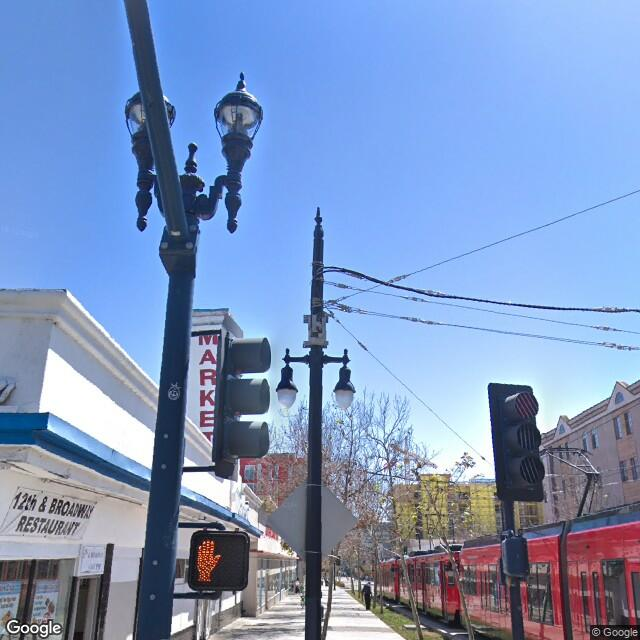light: (210, 97, 256, 154)
